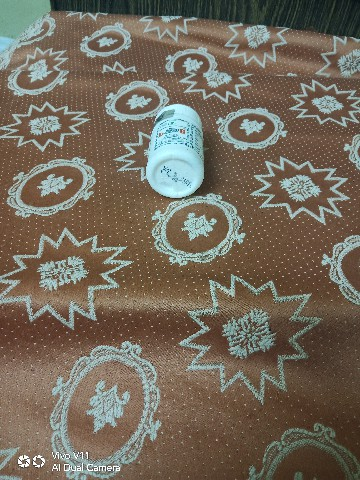lgasafoetidapowder small: (144, 91, 216, 204)
